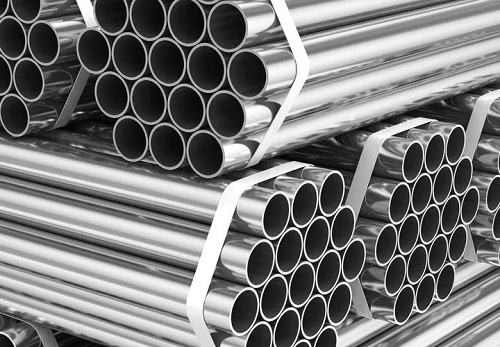steel_pipe: (215, 283, 267, 339), (246, 269, 296, 324), (234, 236, 282, 291), (276, 258, 321, 311), (206, 1, 252, 52), (252, 189, 297, 241), (309, 165, 352, 219), (288, 291, 334, 341), (304, 246, 349, 297), (266, 224, 309, 277), (328, 234, 373, 284), (282, 178, 326, 229), (293, 212, 336, 264), (314, 278, 359, 327), (227, 49, 269, 101), (205, 89, 247, 141), (184, 129, 226, 179), (320, 202, 361, 252), (167, 83, 207, 133), (148, 37, 187, 86), (148, 122, 187, 171), (110, 32, 148, 82), (167, 0, 206, 48), (130, 77, 168, 126), (111, 115, 149, 164), (187, 47, 226, 94), (93, 71, 130, 119), (74, 28, 111, 75), (27, 20, 63, 67), (128, 0, 167, 42), (12, 57, 45, 103), (92, 0, 130, 37), (0, 14, 28, 62), (1, 92, 30, 137), (271, 306, 302, 347), (373, 220, 398, 268), (400, 139, 426, 183), (387, 180, 412, 225), (422, 130, 447, 175), (383, 254, 408, 297), (396, 213, 420, 257), (391, 284, 416, 326), (410, 172, 434, 215), (404, 244, 429, 285), (445, 122, 467, 167), (419, 203, 442, 246), (414, 273, 437, 315), (432, 163, 454, 206), (451, 156, 474, 197), (447, 224, 470, 264), (428, 234, 450, 275), (460, 186, 482, 227), (439, 194, 461, 235), (9, 0, 45, 24), (435, 262, 457, 301), (244, 320, 274, 347), (485, 173, 500, 214), (0, 54, 13, 97), (490, 204, 500, 244), (13, 263, 28, 281)
